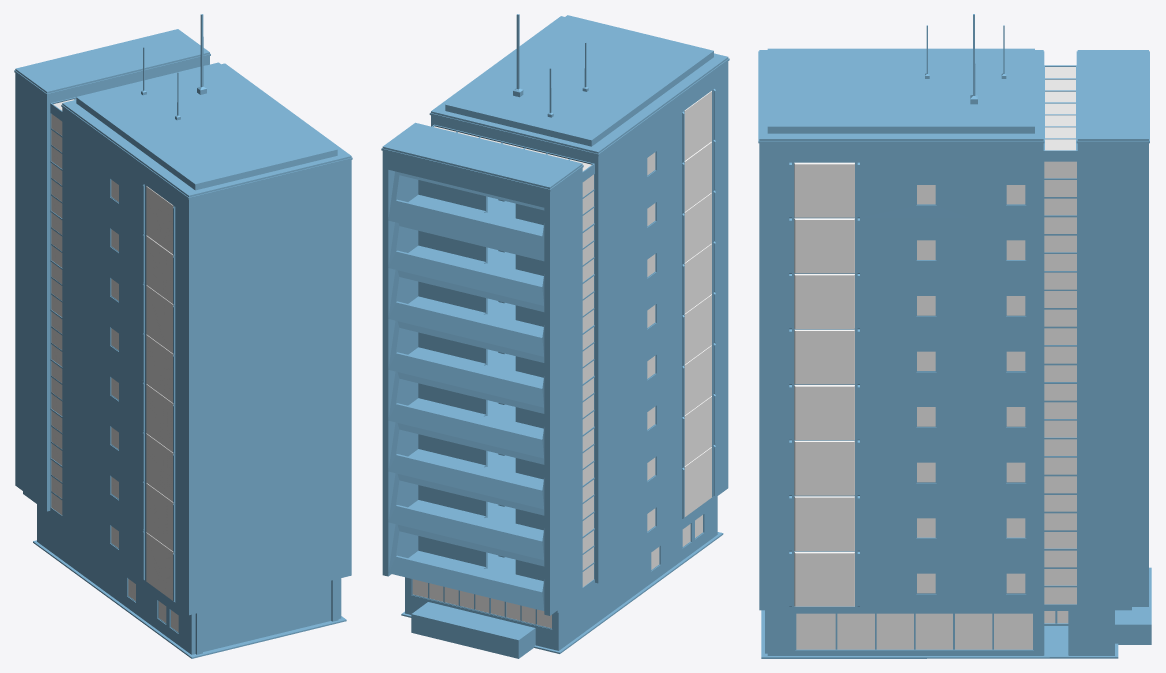
Rendered from building-0.fbx.
3 renders of one model, left to right at view 1: azimuth 30°, elevation 25°; view 2: azimuth 150°, elevation 25°; view 3: azimuth 270°, elevation 25°, orthographic. The views are drawn at different scales.
Visible parts, largest first — view 1: Residential Buildings 005; view 2: Residential Buildings 005; view 3: Residential Buildings 005.
Part boxes in pixels (box(x1,y1,x2,y2)): Residential Buildings 005: box(14, 14, 352, 658); Residential Buildings 005: box(381, 14, 729, 658); Residential Buildings 005: box(758, 14, 1151, 658).
Bounding box in the file's own units: 1259 × 3999 × 2310.
